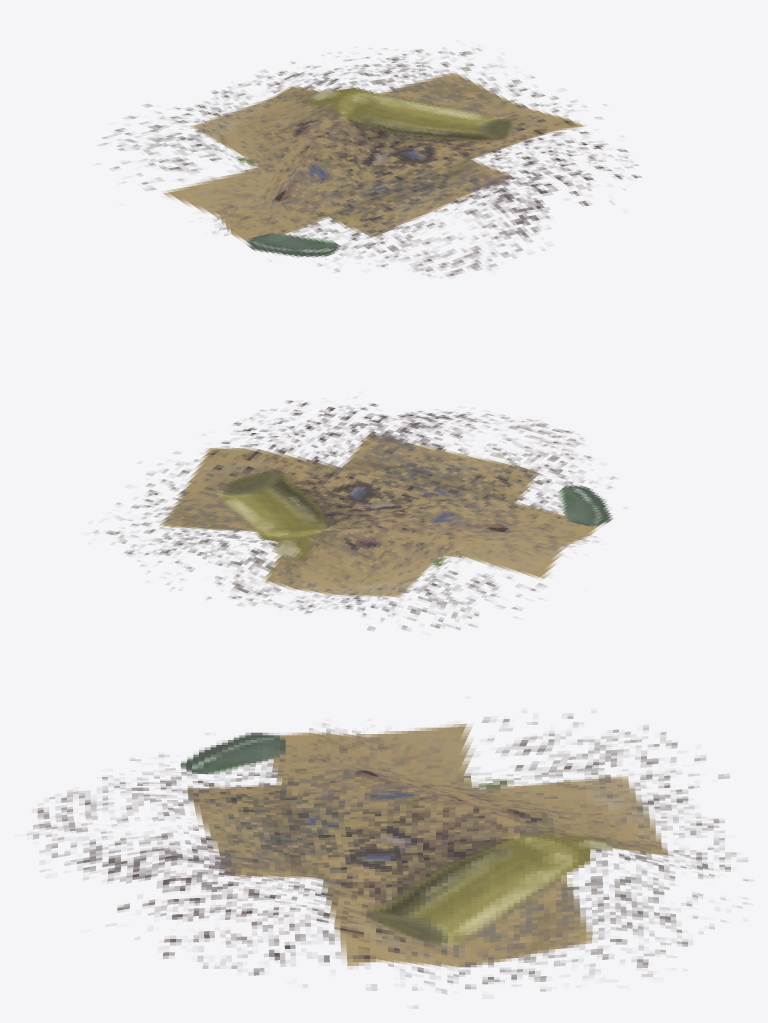
Rendered from Smieci.gltf.
3 renders of one model, top to bottom at view 1: azimuth 30°, elevation 25°; view 2: azimuth 150°, elevation 25°; view 3: azimuth 270°, elevation 25°, orthographic. The views are drawn at different scales.
Visible parts, largest first — view 1: Smieci; view 2: Smieci; view 3: Smieci.
Part boxes in pixels (<box>): Smieci: <box>98,48,642,276</box>; Smieci: <box>93,400,615,630</box>; Smieci: <box>27,714,753,1008</box>.
Bounding box in the file's own units: 1 × 0.0398 × 1.
Materials: 1 (1 with a texture image).
